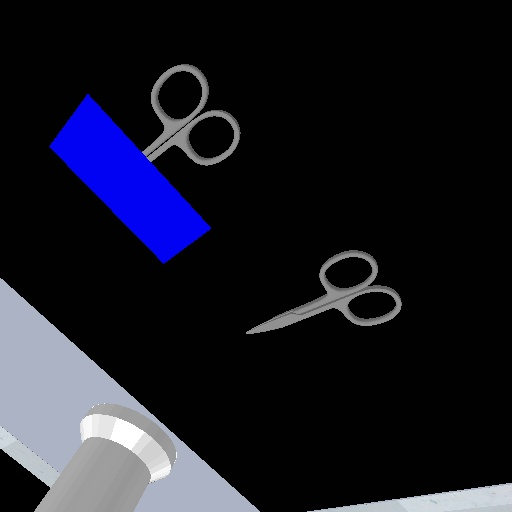tijera: (242, 245, 407, 339), (138, 58, 247, 170)
